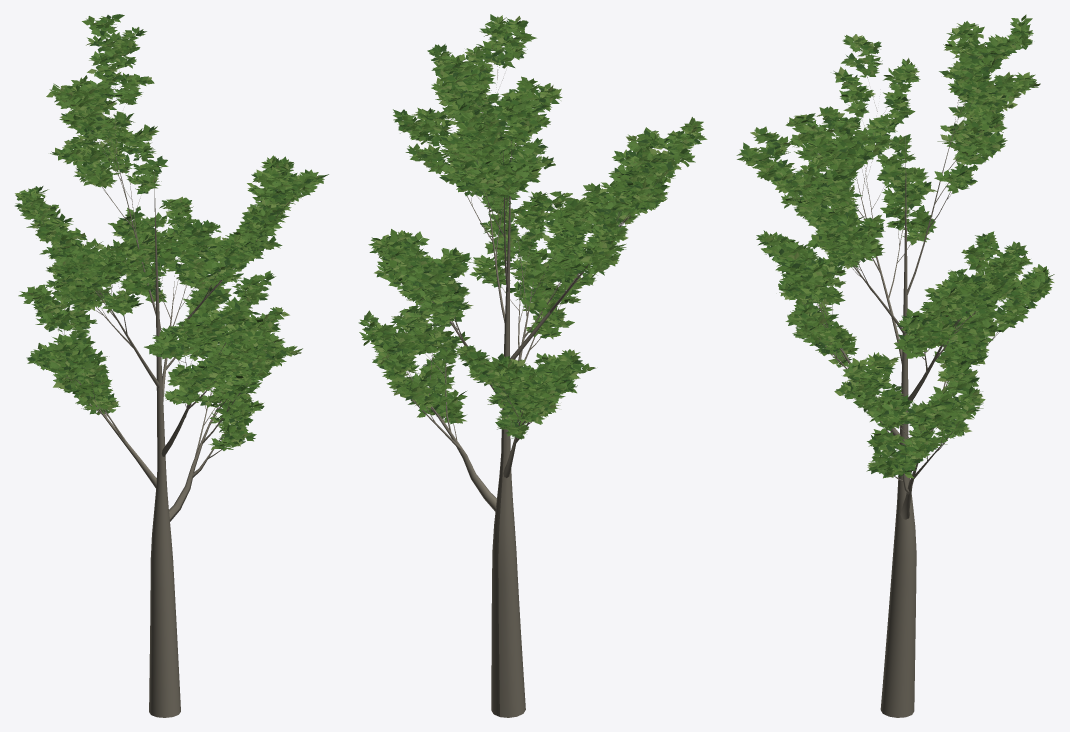
The model's file is tree_05.glb.
3 views of the same model, side by side, from view 1: azimuth 30°, elevation 25°; view 2: azimuth 150°, elevation 25°; view 3: azimuth 270°, elevation 25° (orthographic). The views are drawn at different scales.
Visible parts, largest first — view 1: Tree_05_leaf_clusters, Tree_05_trunk_branches; view 2: Tree_05_leaf_clusters, Tree_05_trunk_branches; view 3: Tree_05_leaf_clusters, Tree_05_trunk_branches.
Part boxes in pixels (x1,y1,x2,y2): Tree_05_leaf_clusters: (15,14,328,450); Tree_05_trunk_branches: (31,34,303,717); Tree_05_leaf_clusters: (358,14,707,439); Tree_05_trunk_branches: (368,29,683,717); Tree_05_leaf_clusters: (736,14,1054,478); Tree_05_trunk_branches: (764,41,1028,717).
Bounding box in the file's own units: 5.08 × 11.01 × 4.64.
